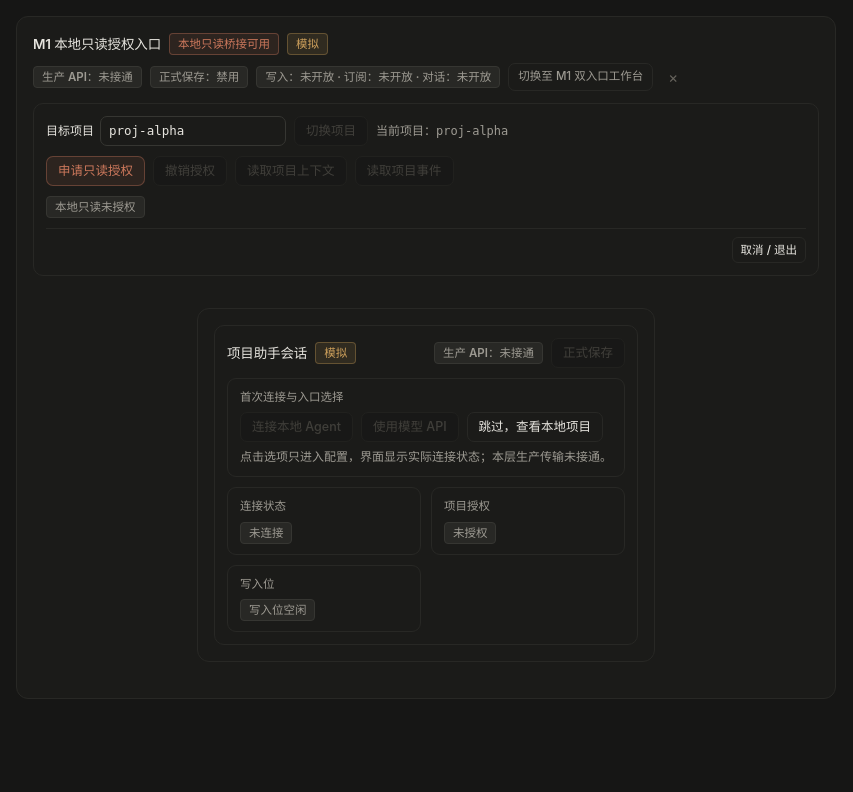
ProjectAgentM1ReadonlyEntry (模拟 / synthetic: true) › 撤权时立即清空受限视图并丢弃已接受上下文与 ref，且撤权后迟到读取回包被丢弃
Step 1. Click the button "申请只读授权" → click(96, 171), box 46,156 -> 145,186
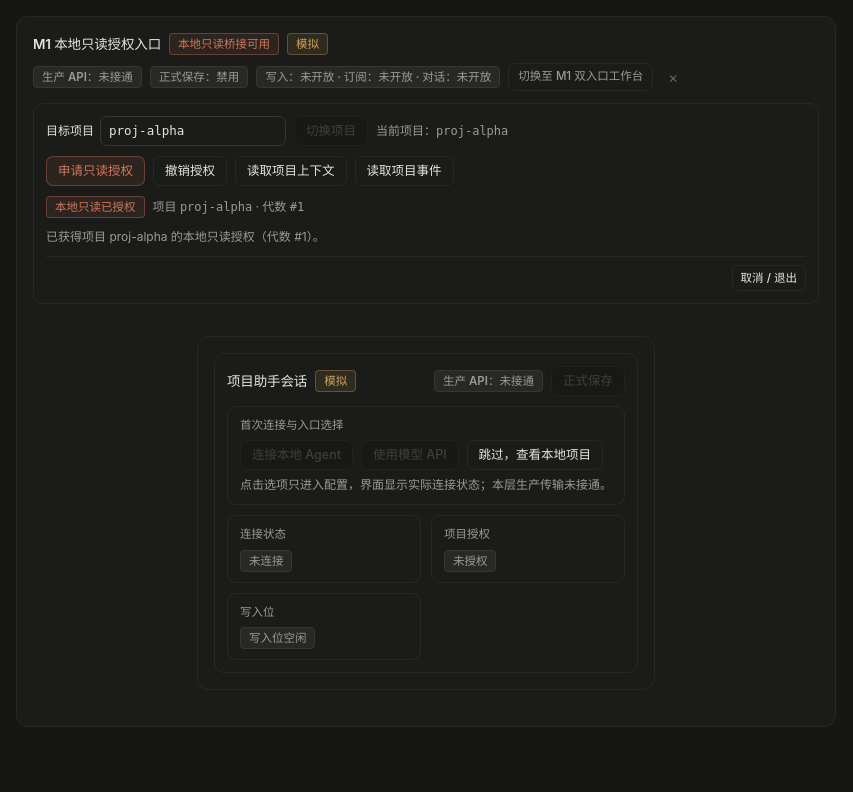
Result: the text "本地只读已授权" is shown at 46,196 -> 144,218
Step 2. Click the button "读取项目上下文" → click(291, 171), box 235,156 -> 346,186
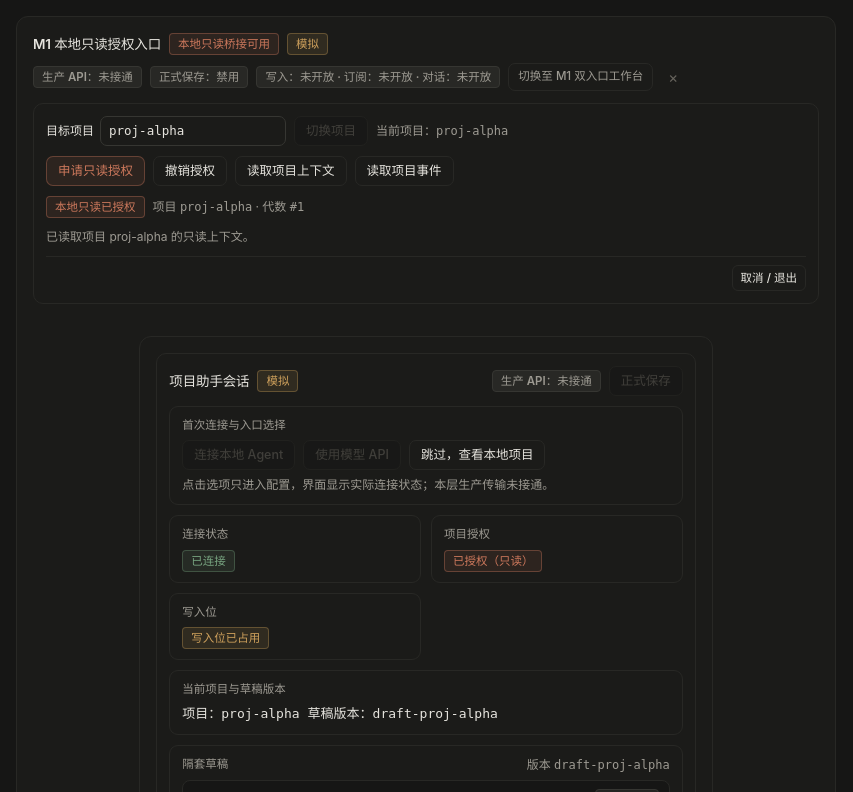
Result: the text "draft-proj-alpha" next to "草稿版本：" is shown at 373,706 -> 498,721
Step 3. Click the button "读取项目事件" → click(404, 171), box 354,156 -> 454,186
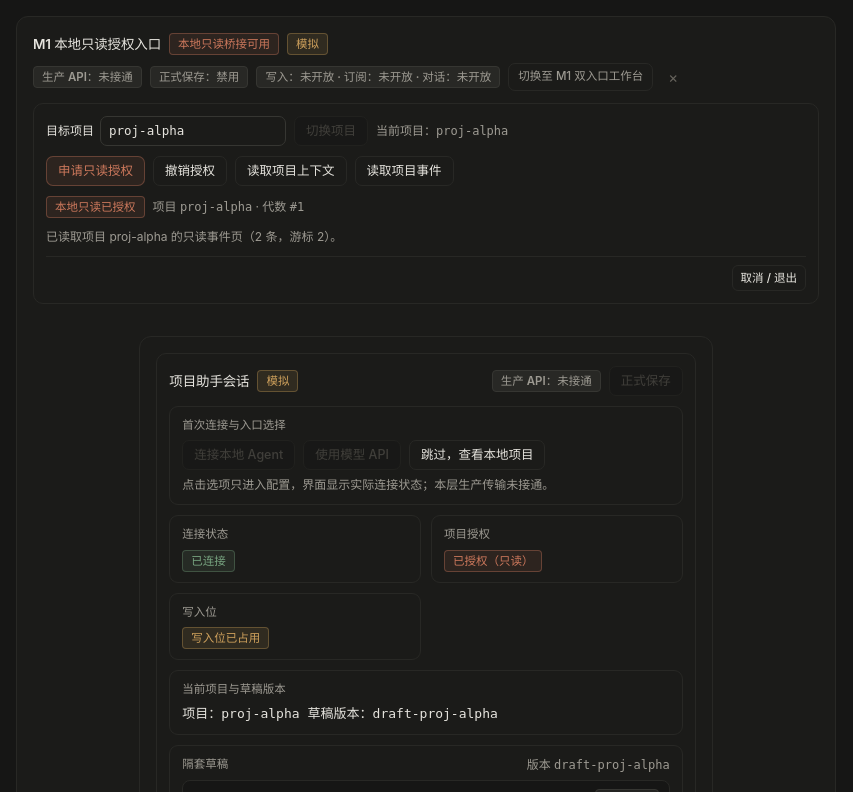
Step 4. Click the button "读取项目上下文" → click(291, 171), box 235,156 -> 346,186
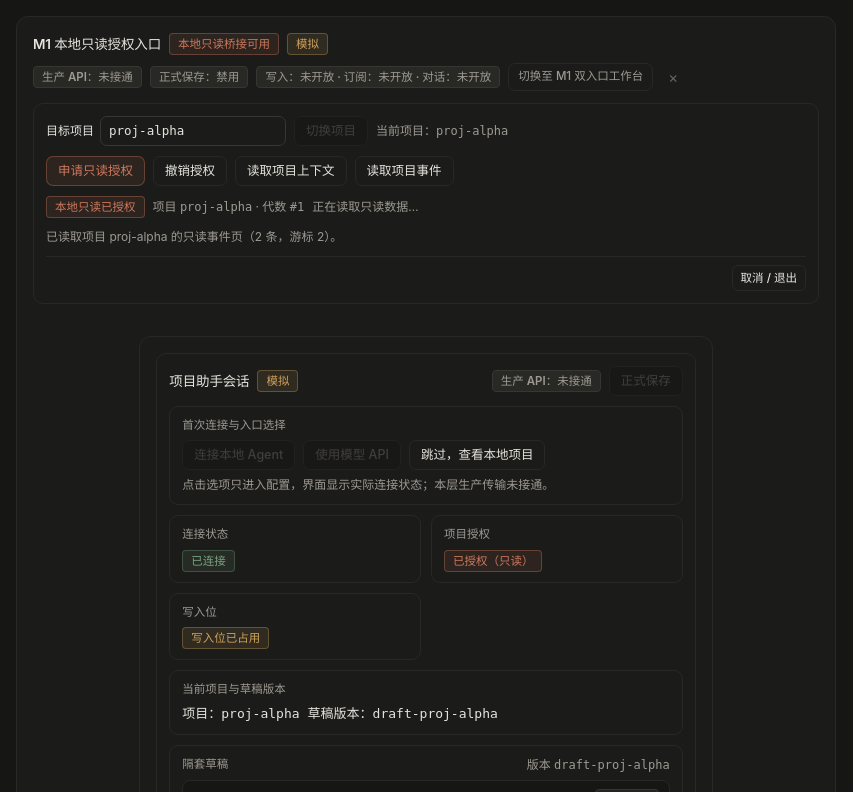
# Click revoke — restricted view MUST clear immediately before revoke promise settles
Step 5. Click the button "撤销授权" → click(190, 171), box 153,156 -> 227,186
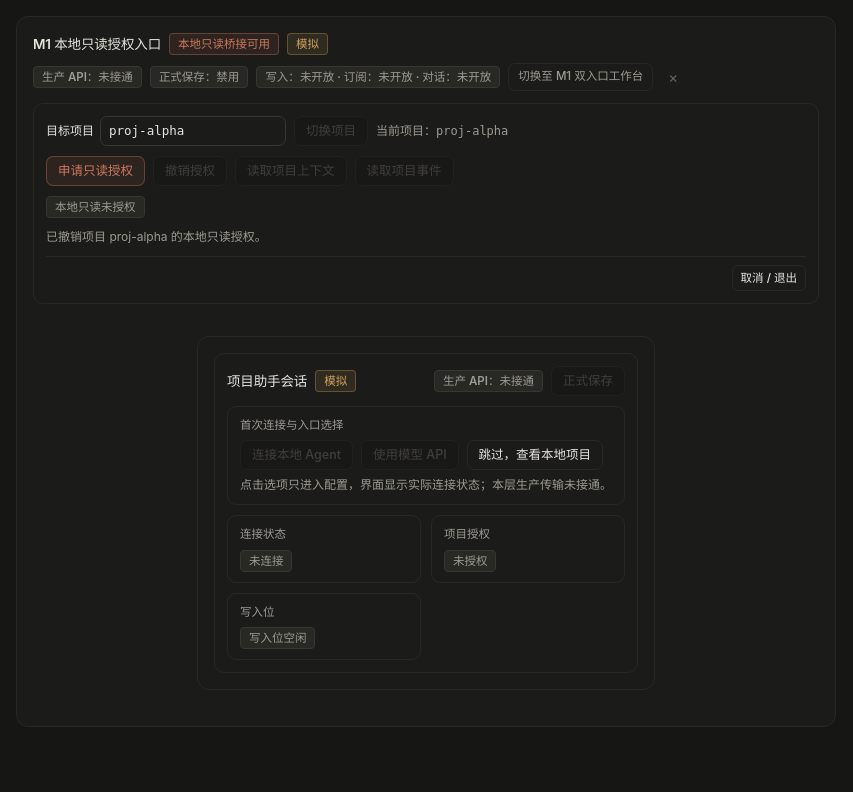
Result: the text "draft-proj-alpha" is gone
Result: the message "只读事件页" is gone
Result: the button "读取项目上下文" is disabled at 235,156 -> 346,186
